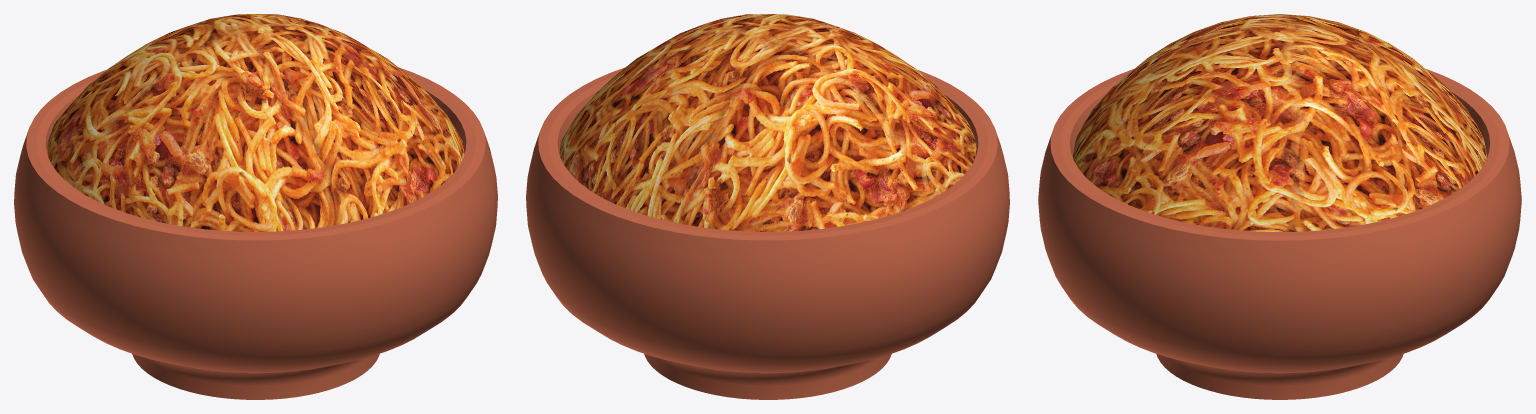
File: Spaghetti.fbx
3 views of the same model, side by side, from view 1: azimuth 30°, elevation 25°; view 2: azimuth 150°, elevation 25°; view 3: azimuth 270°, elevation 25° (orthographic).
Visible parts, largest first — view 1: Bowl, Rice; view 2: Bowl, Rice; view 3: Bowl, Rice.
Part boxes in pixels (box(x1,y1,x2,y2)): Bowl: box(14, 67, 497, 399); Rice: box(47, 14, 464, 231); Bowl: box(526, 67, 1009, 399); Rice: box(559, 14, 976, 231); Bowl: box(1038, 68, 1521, 399); Rice: box(1072, 14, 1487, 231).
Size of the model in its own units: 240 by 173 by 240.
